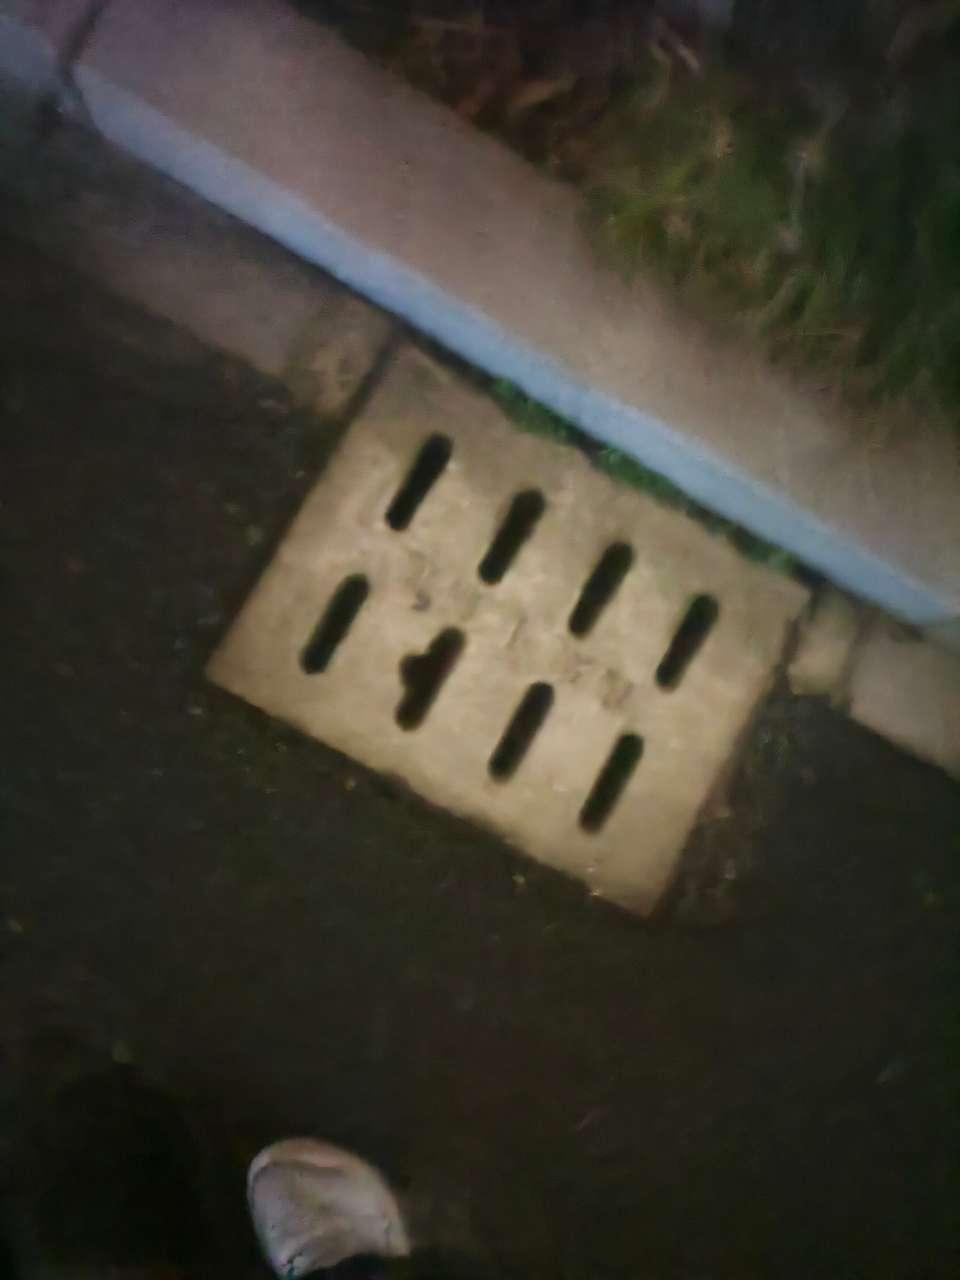wellcover: (183, 313, 840, 931)
